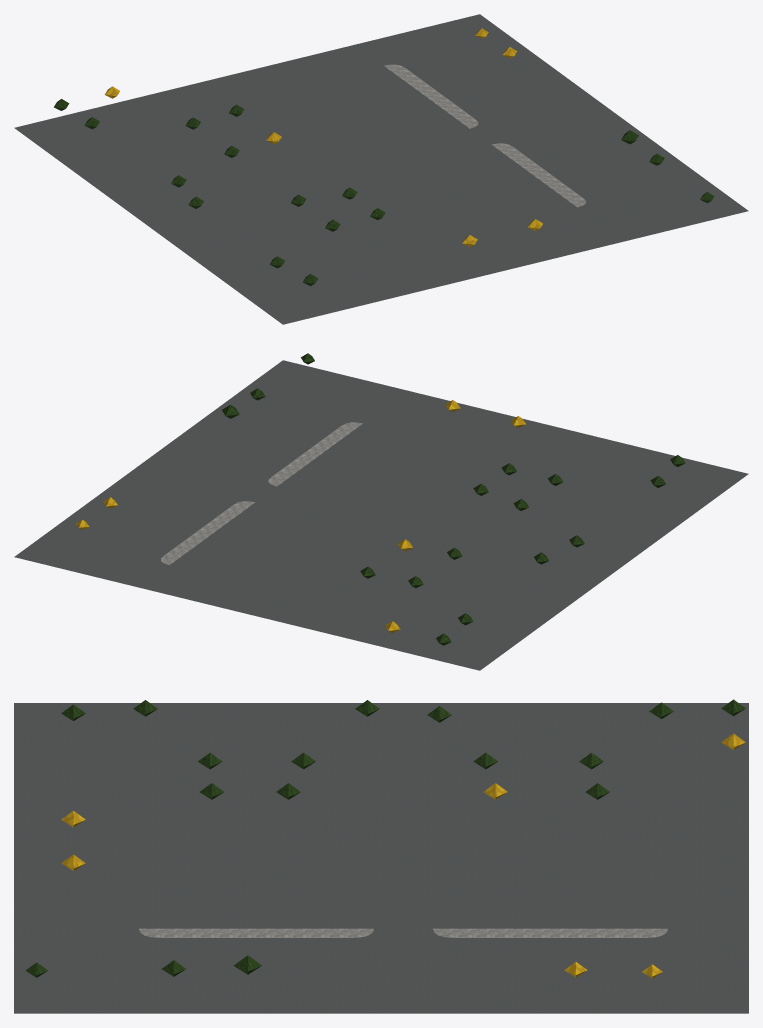
The model's file is cidade_S05_03_lod.gltf.
3 renders of one model, top to bottom at view 1: azimuth 30°, elevation 25°; view 2: azimuth 150°, elevation 25°; view 3: azimuth 270°, elevation 25°, orthographic. The views are drawn at different scales.
Visible parts, largest first — view 1: S05_03_Chao_LOD2, S05_03_Vegetacao_LOD2; view 2: S05_03_Chao_LOD2, S05_03_Vegetacao_LOD2; view 3: S05_03_Chao_LOD2, S05_03_Vegetacao_LOD2.
Part boxes in pixels (x1,y1,x2,y2): S05_03_Chao_LOD2: (14, 14, 748, 324); S05_03_Vegetacao_LOD2: (54, 28, 714, 285); S05_03_Chao_LOD2: (14, 360, 748, 670); S05_03_Vegetacao_LOD2: (76, 353, 685, 645); S05_03_Chao_LOD2: (14, 703, 748, 1013); S05_03_Vegetacao_LOD2: (25, 699, 745, 978).
Bounding box in the file's own units: 100 × 5.42 × 100.
Materials: 4 (4 with a texture image).
